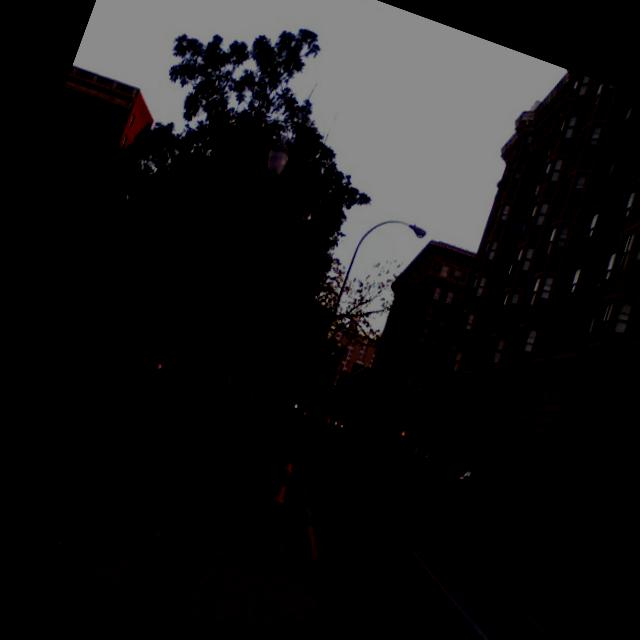Vehicle: (162, 364, 230, 416), (85, 328, 139, 372), (452, 466, 501, 509), (153, 354, 203, 393), (47, 322, 89, 358), (48, 316, 92, 344), (414, 452, 452, 483), (300, 406, 332, 430), (26, 317, 48, 343), (205, 377, 229, 399)
